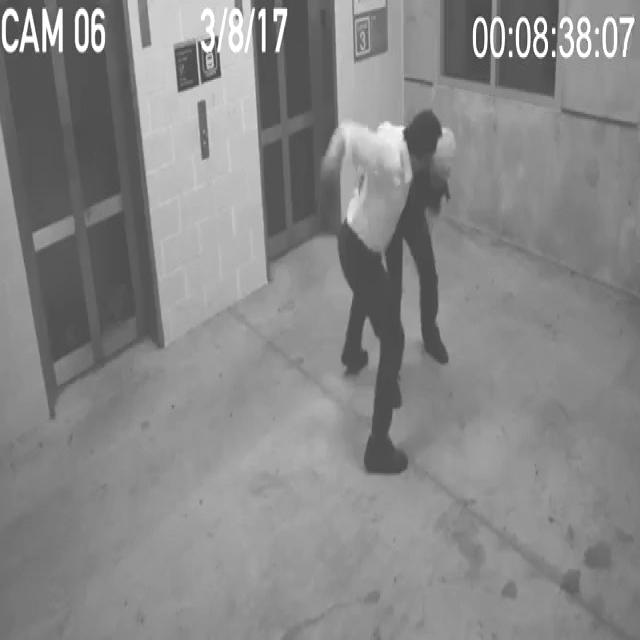fight: (319, 107, 454, 475)
